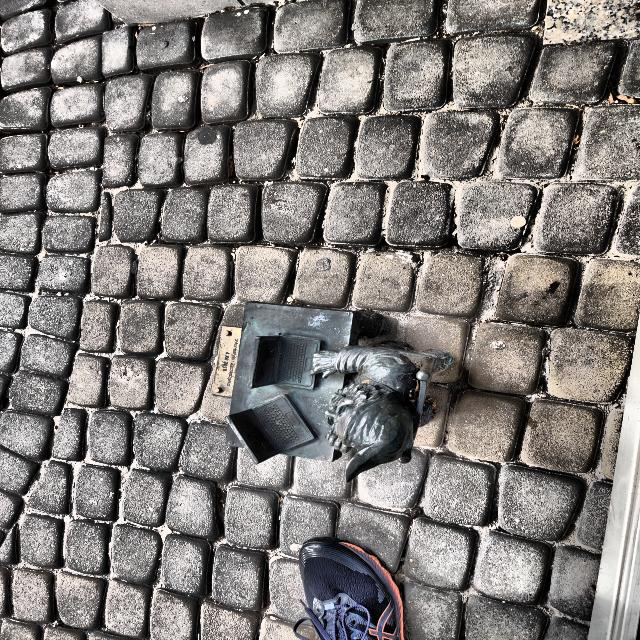WIZek: (213, 301, 452, 481)
